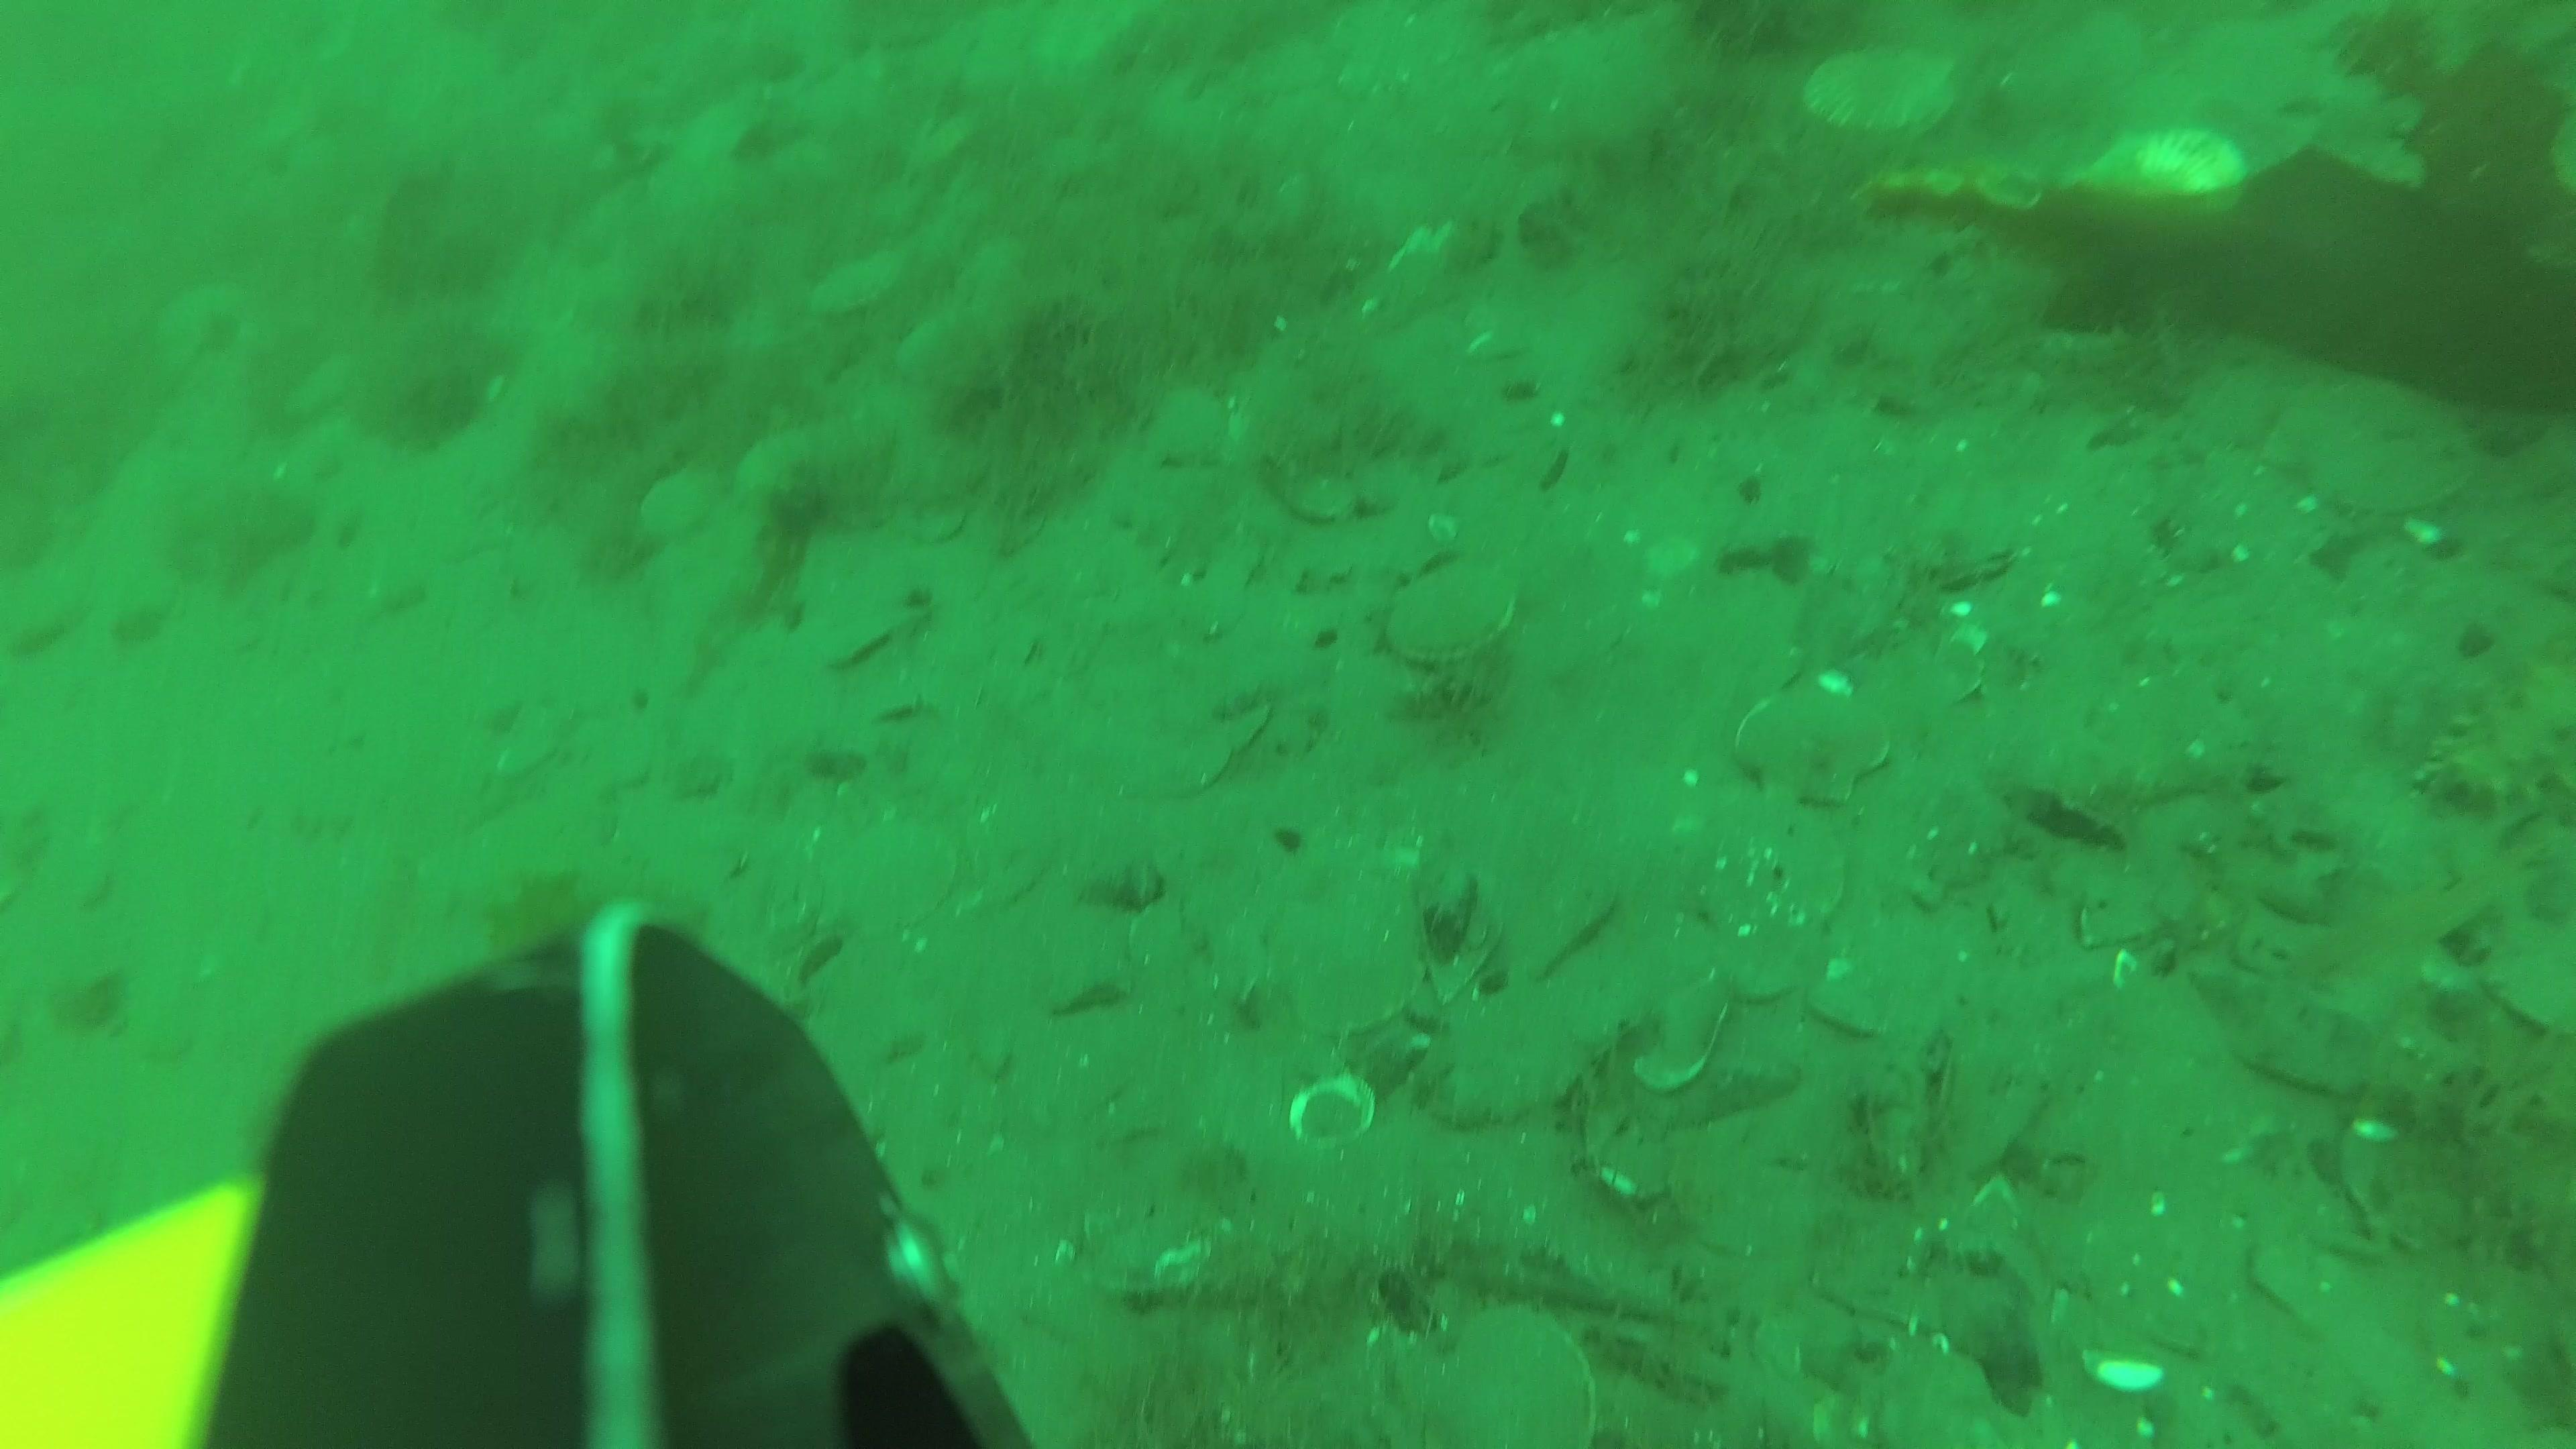scallop: (2268, 373, 2488, 529), (1398, 1304, 1603, 1449), (1698, 801, 1856, 934), (1734, 685, 1897, 809), (1803, 37, 1957, 150), (1293, 929, 1430, 1047), (2075, 120, 2236, 218), (819, 823, 957, 934), (1396, 561, 1534, 671), (639, 469, 727, 559), (805, 253, 904, 327), (1150, 384, 1231, 471)
